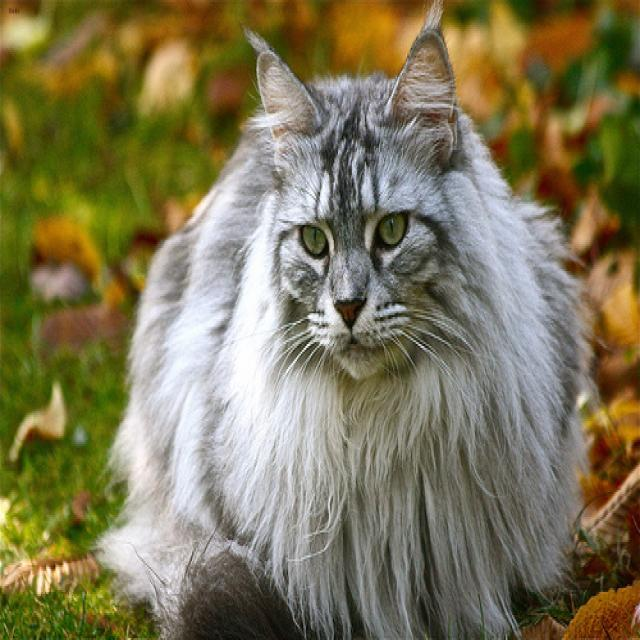Maine_Coon: (247, 25, 496, 395)
